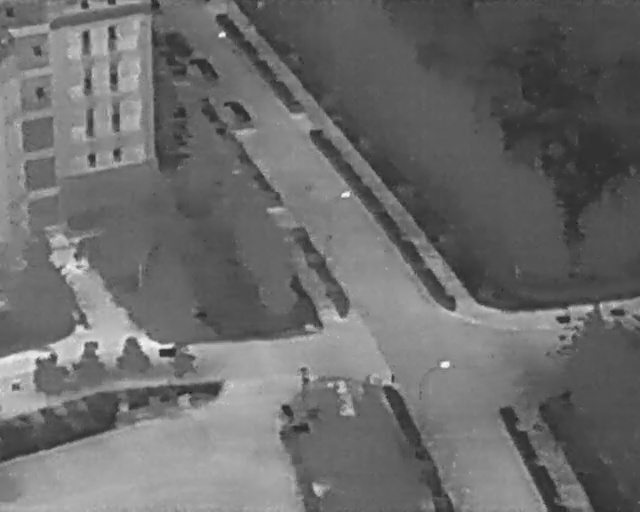Car: (217, 91, 257, 135), (185, 49, 223, 90)
